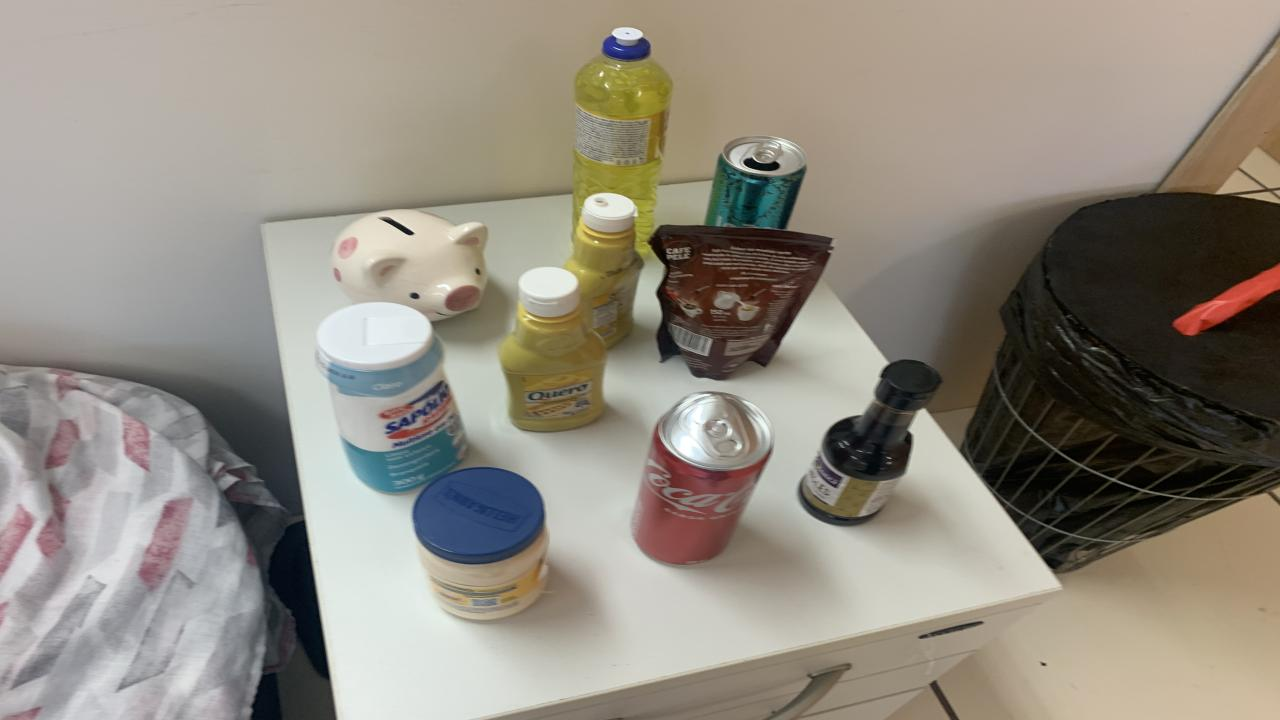Cleaner-Cleanup_Items: (315, 304, 468, 493)
Coffee-Pantry_Items: (650, 225, 832, 379)
Coke-Drinks: (632, 392, 772, 564)
Detergent-Cleanup_Items: (572, 26, 672, 253)
English_Sauce-Pantry_Items: (800, 360, 940, 525)
Mayonnaise-Pantry_Items: (412, 467, 550, 621)
Mustard-Pantry_Items: (498, 266, 605, 431), (565, 193, 642, 347)
Pig_Safe-Miscellaneous: (330, 210, 488, 321)
Tea-Drinks: (705, 137, 808, 229)
